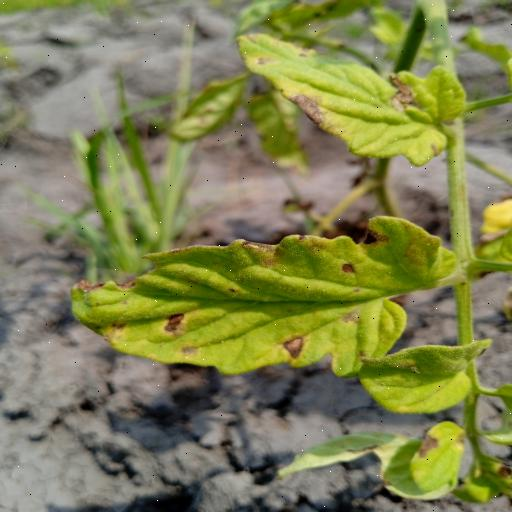Tomato_Brown_Spots: (62, 214, 468, 383), (234, 27, 467, 171), (355, 338, 495, 419)
